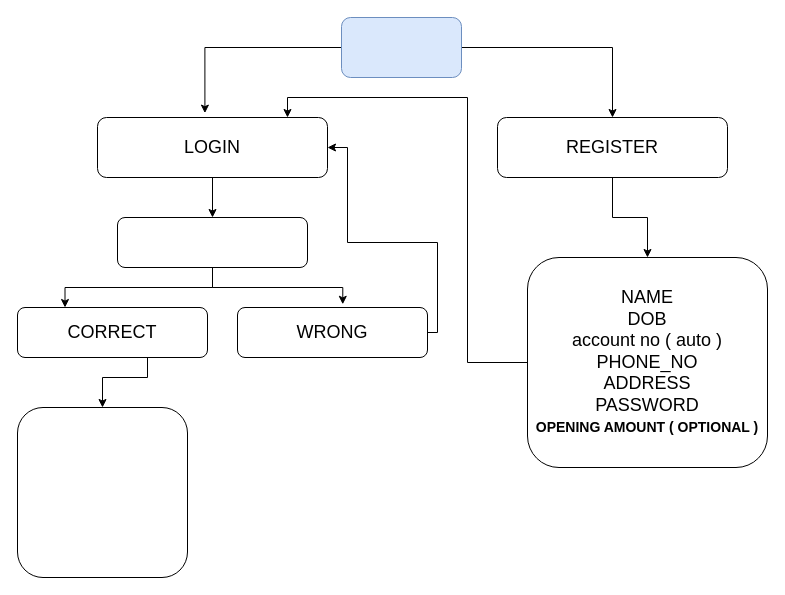
The diagram is 785 pixels wide and 595 high, and some of its shapes have lost their labels. The centre of each missing label's shape, as x and y in pixels:
"DEPOSIT WITHDRAW BALANCE DETAILS CHNG PASS CLOSE AC" belongs at (x=102, y=492).
"USER" belongs at (x=401, y=47).
"User account No / Password" belongs at (x=212, y=242).
